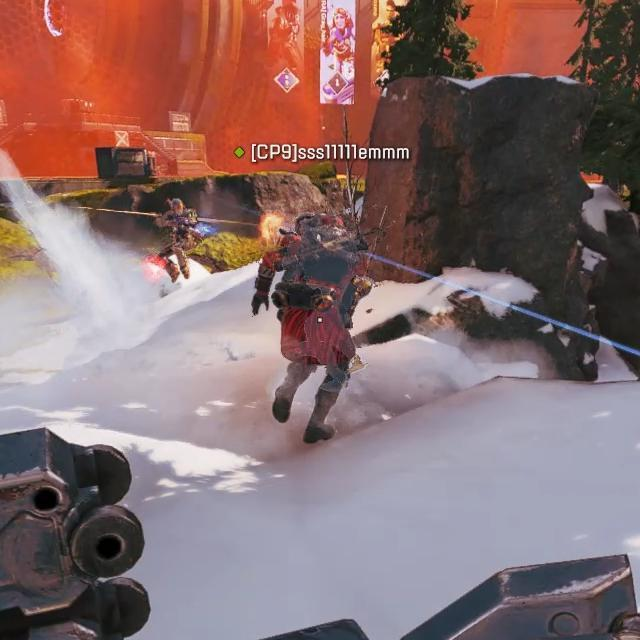avatar: (247, 210, 366, 449), (155, 195, 200, 285)
